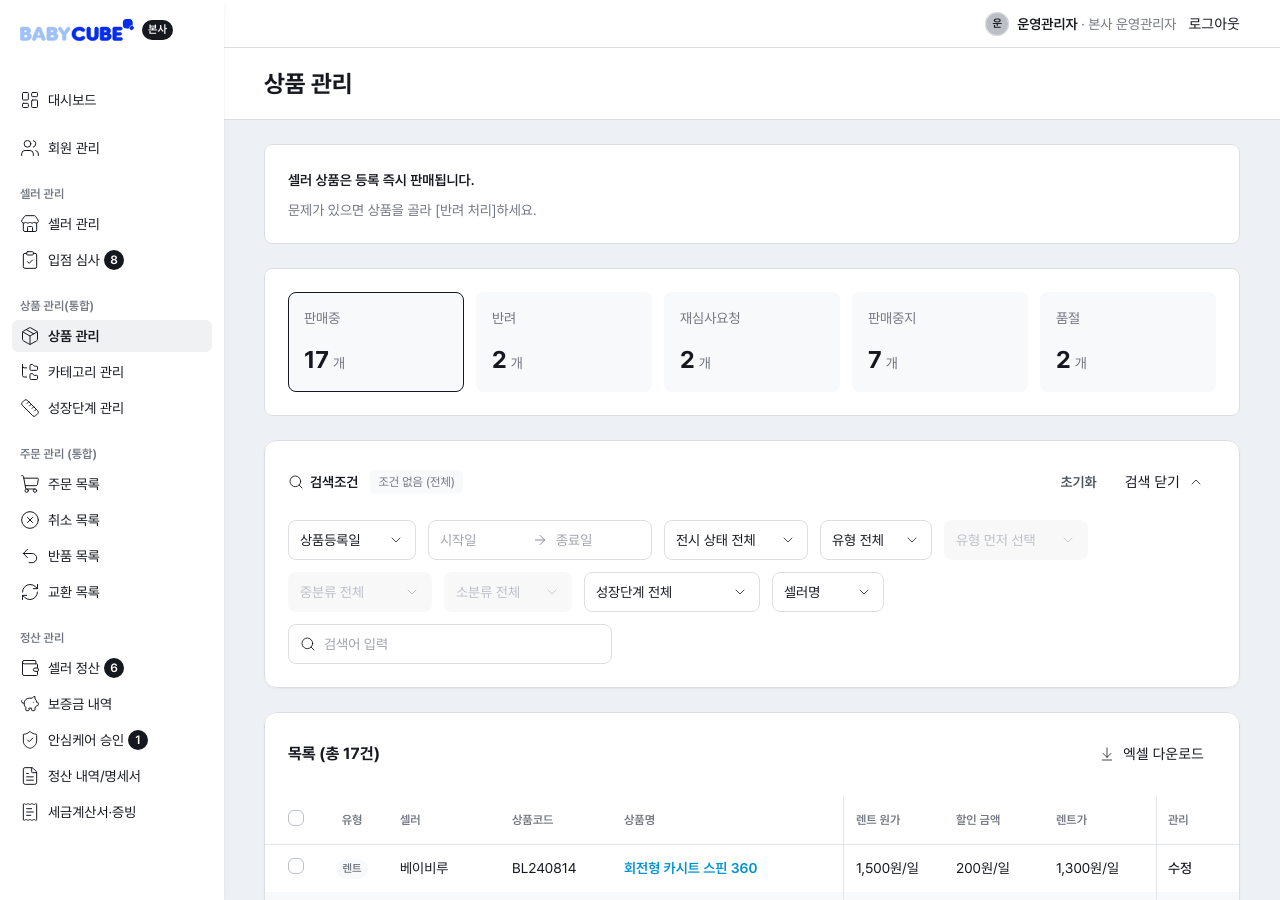
Scenario: App (전달본) › 상품 목록의 상품명을 누르면 그 상품의 상세 화면에 도착한다
Click the button "회전형 카시트 스핀 360": (691, 868) [624,856,757,880]
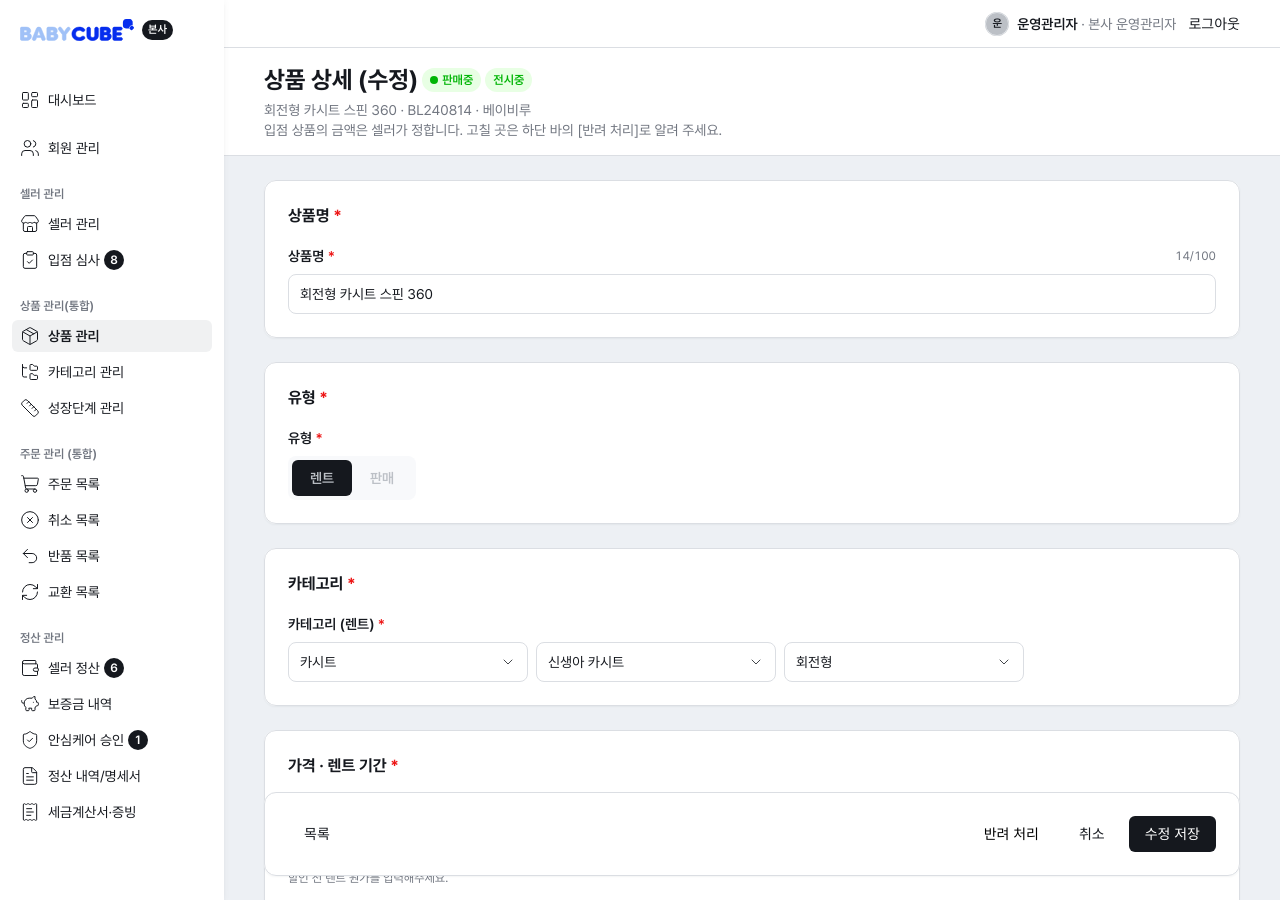
Now the heading "상품 상세 (수정)" is shown, box [264,64,418,96]
Now the text "회전형 카시트 스핀 360 · BL240814 · 베이비루" is shown, box [264,102,531,118]
